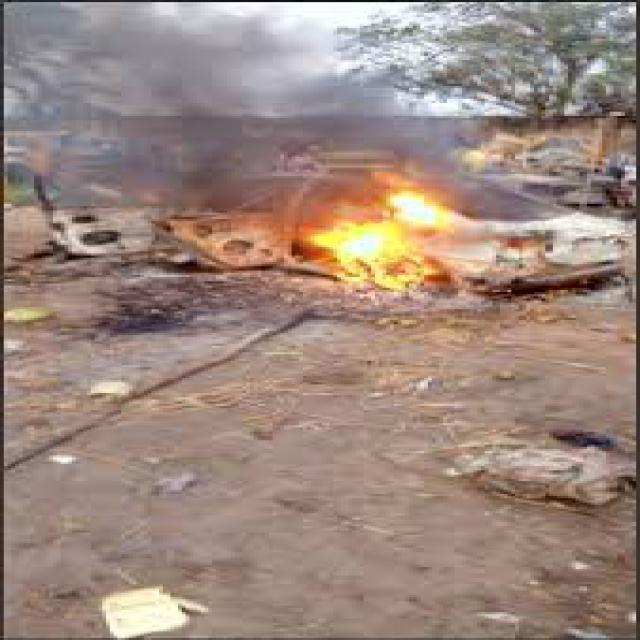fire: (334, 183, 443, 285)
smoke: (149, 29, 481, 171)
